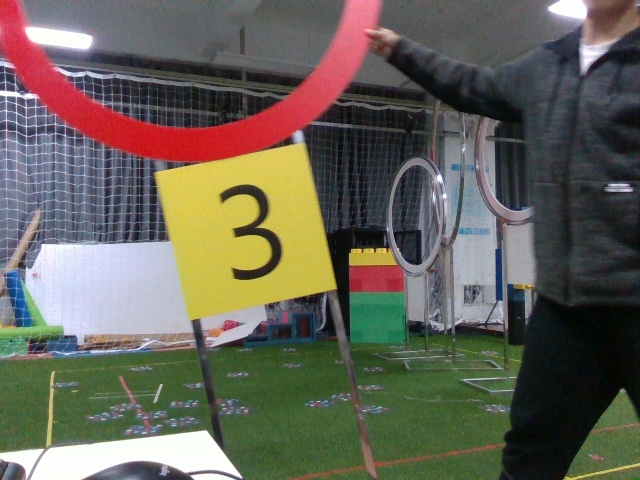target: (173, 167, 321, 304)
